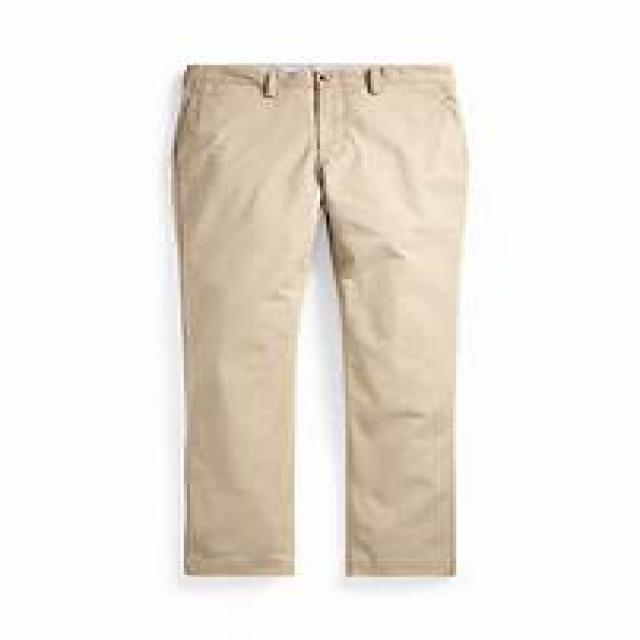long-pants: (171, 65, 469, 582)
